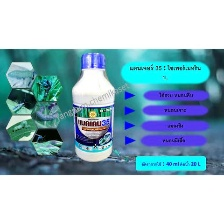insecticide: (70, 50, 117, 165)
